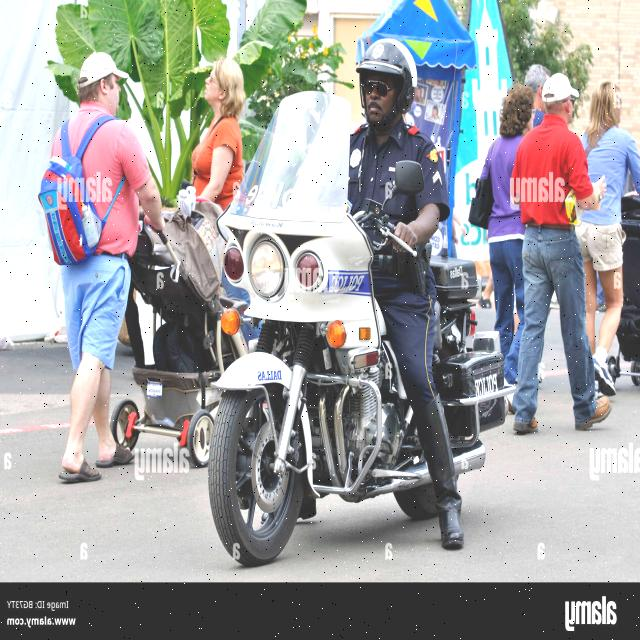police: (298, 21, 478, 576)
